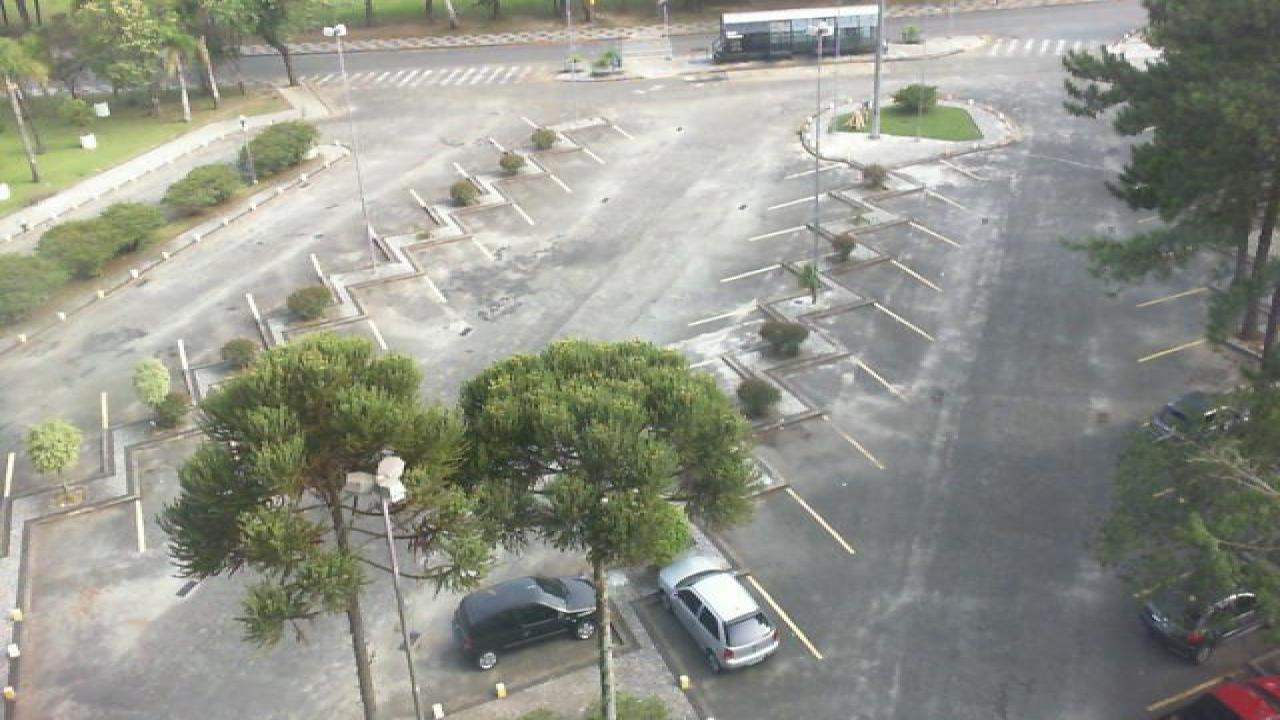Car: (656, 550, 782, 675), (452, 574, 600, 672), (1136, 584, 1266, 664), (1160, 677, 1280, 720), (1148, 392, 1242, 439)
